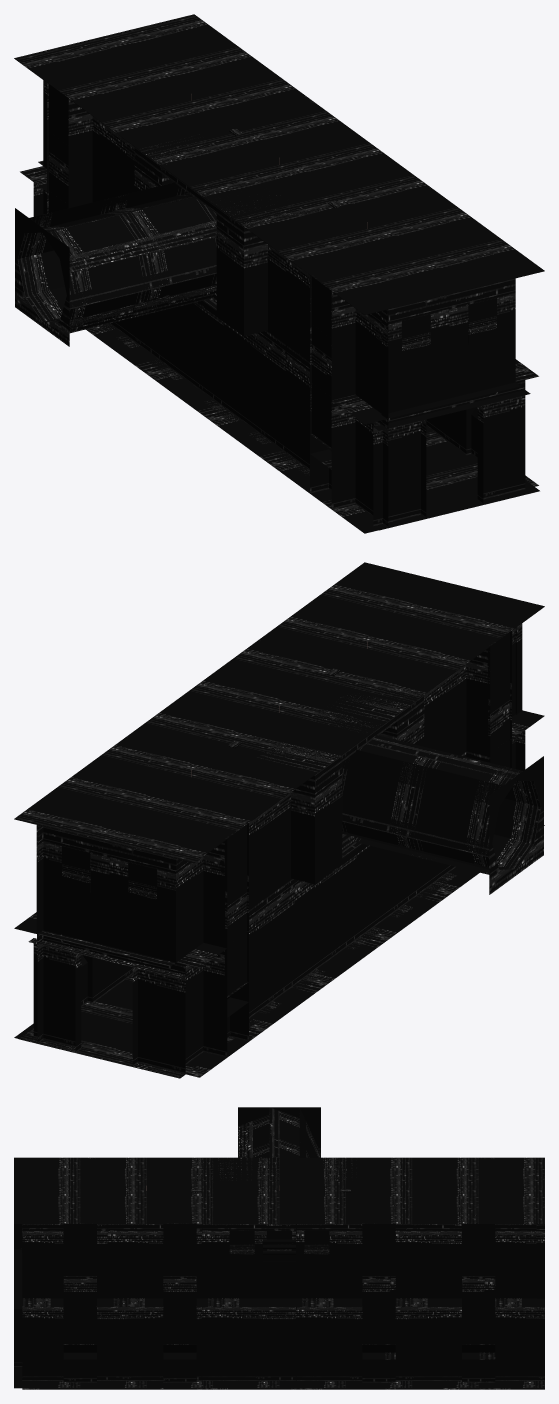
Rendered from room2_2_opt.obj.
3 views of the same model, one above another, from view 1: azimuth 30°, elevation 25°; view 2: azimuth 150°, elevation 25°; view 3: azimuth 270°, elevation 25° (orthographic). The views are drawn at different scales.
Size of the model in its own units: 1104 by 728 by 2048.
